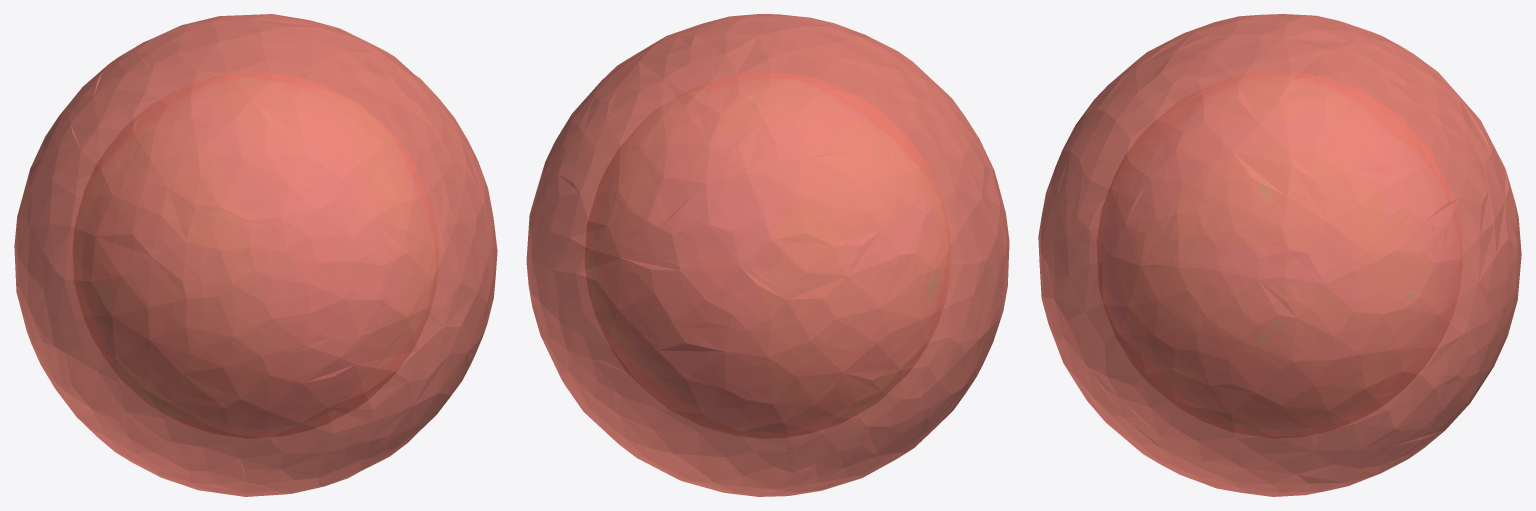
Rendered from orbital.glb.
3 renders of one model, left to right at view 1: azimuth 30°, elevation 25°; view 2: azimuth 150°, elevation 25°; view 3: azimuth 270°, elevation 25°, orthographic.
Visible parts, largest first — view 1: V_n4_s_ml0_node, V_n3_s_ml0_node; view 2: V_n4_s_ml0_node, V_n3_s_ml0_node; view 3: V_n4_s_ml0_node, V_n3_s_ml0_node.
Part boxes in pixels (x1,y1,x2,y2): V_n4_s_ml0_node: [14, 14, 497, 496]; V_n3_s_ml0_node: [73, 72, 438, 438]; V_n4_s_ml0_node: [526, 14, 1009, 496]; V_n3_s_ml0_node: [585, 72, 950, 438]; V_n4_s_ml0_node: [1038, 14, 1521, 496]; V_n3_s_ml0_node: [1096, 72, 1462, 438].
Size of the model in its own units: 2.06 by 2.07 by 2.06.
